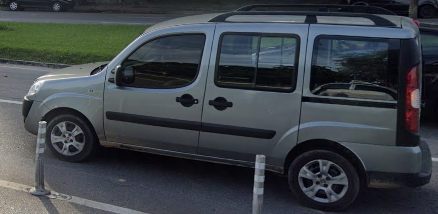car: (24, 10, 428, 210)
